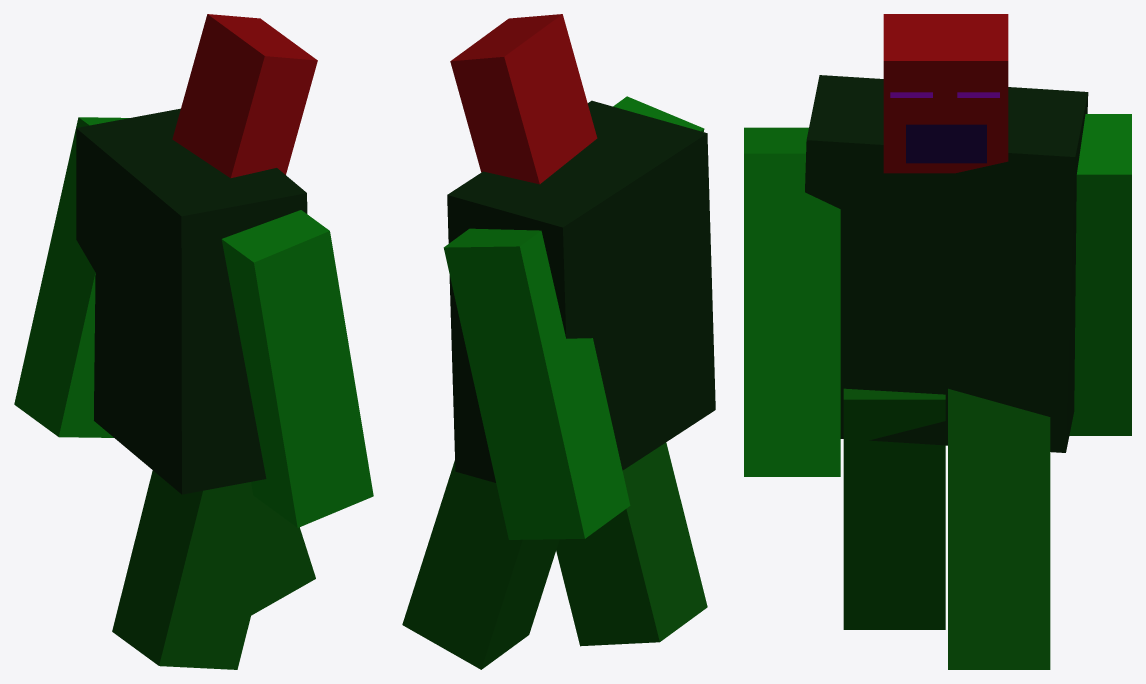
File: walk_000012.obj
3 views of the same model, side by side, from view 1: azimuth 30°, elevation 25°; view 2: azimuth 150°, elevation 25°; view 3: azimuth 270°, elevation 25° (orthographic). The views are drawn at different scales.
Visible parts, largest first — view 1: Cube, leg.002_Cube.006, leg.001_Cube.007, Cube.001_Cube.003, leg.003_Cube.002, leg_Cube.001; view 2: Cube, leg.003_Cube.002, leg.001_Cube.007, leg_Cube.001, Cube.001_Cube.003, leg.002_Cube.006; view 3: Cube, leg.002_Cube.006, leg_Cube.001, leg.001_Cube.007, leg.003_Cube.002, Cube.001_Cube.003, Plane.002.
Part boxes in pixels (x1,y1,x2,y2): Cube: [76, 108, 307, 494]; leg.002_Cube.006: [221, 210, 373, 527]; leg.001_Cube.007: [112, 470, 276, 669]; Cube.001_Cube.003: [172, 14, 317, 178]; leg.003_Cube.002: [14, 117, 128, 437]; leg_Cube.001: [251, 513, 315, 615]; Cube: [447, 100, 715, 482]; leg.003_Cube.002: [443, 228, 630, 539]; leg.001_Cube.007: [556, 442, 707, 646]; leg_Cube.001: [402, 460, 559, 669]; Cube.001_Cube.003: [450, 14, 597, 184]; leg.002_Cube.006: [613, 96, 704, 131]; Cube: [805, 75, 1088, 452]; leg.002_Cube.006: [744, 127, 840, 476]; leg_Cube.001: [948, 388, 1050, 669]; leg.001_Cube.007: [843, 388, 945, 629]; leg.003_Cube.002: [1069, 114, 1131, 435]; Cube.001_Cube.003: [883, 14, 1008, 173]; Plane.002: [906, 124, 986, 163].
Size of the model in its own units: 2.44 by 6.32 by 3.47.
